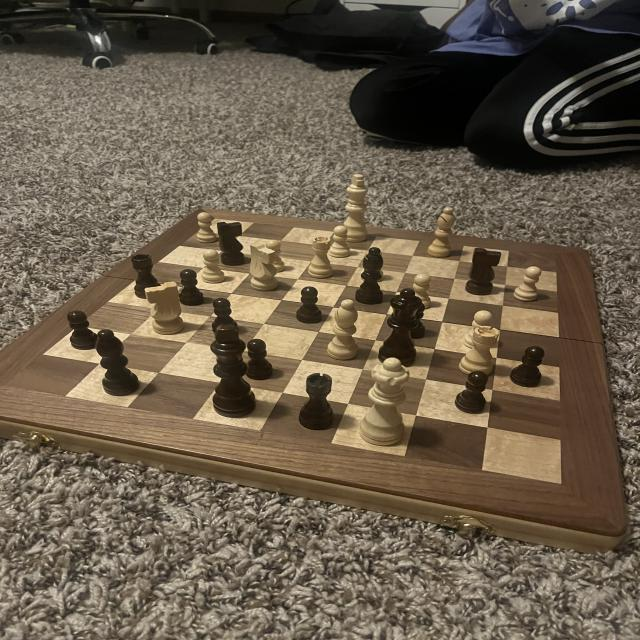bishop: (92, 327, 142, 398), (354, 246, 388, 305)
black-bishop: (206, 321, 257, 420)
black-king: (464, 246, 505, 296), (217, 221, 250, 268)
black-knight: (241, 336, 278, 383), (64, 309, 104, 352), (454, 370, 492, 415), (510, 345, 549, 388), (294, 285, 326, 326), (177, 268, 207, 308), (402, 299, 430, 341), (211, 296, 240, 335)
black-pawn: (376, 288, 422, 370)
black-queen: (295, 372, 341, 432), (128, 251, 164, 299)
black-rook: (322, 296, 367, 362), (422, 204, 460, 261)
white-bishop: (338, 171, 372, 246)
white-king: (141, 278, 188, 336), (246, 242, 284, 293)
white-knight: (462, 308, 499, 352), (508, 264, 545, 304), (192, 209, 225, 247), (199, 246, 228, 288), (408, 273, 436, 314), (327, 224, 356, 262), (261, 237, 288, 274), (360, 249, 385, 283)
white-pawn: (357, 354, 414, 448)
white-queen: (452, 323, 503, 379), (305, 234, 339, 280)
